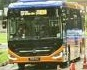bus: (38, 9, 47, 14)
